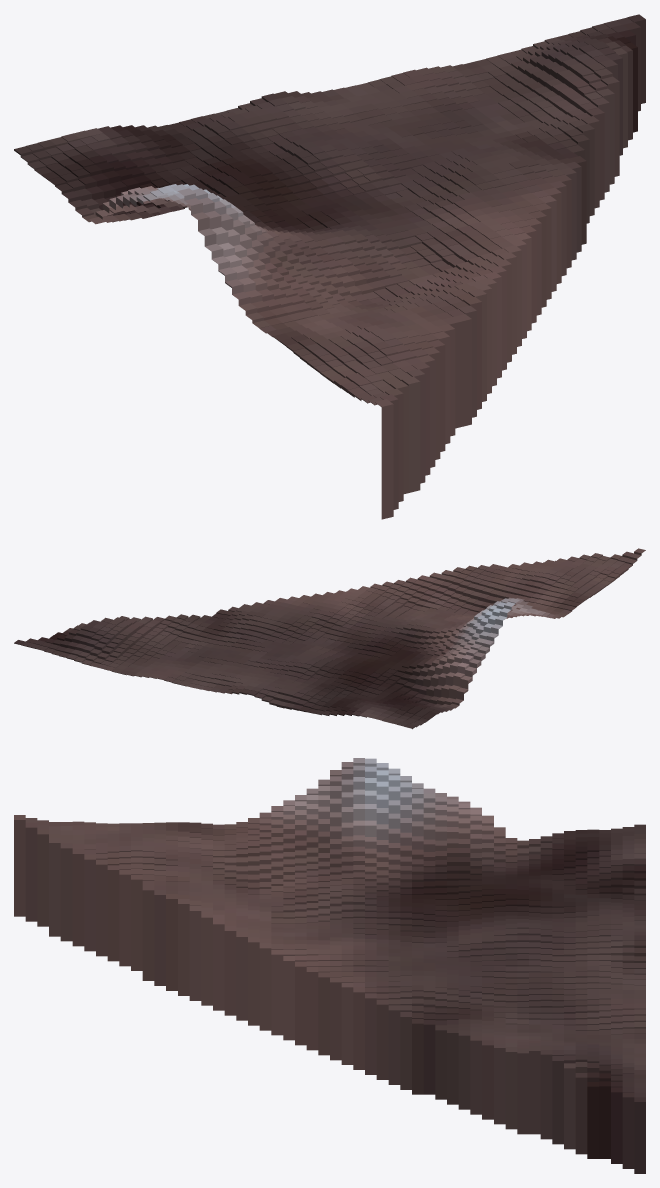
Rendered from chunk-41.glb.
3 views of the same model, one above another, from view 1: azimuth 30°, elevation 25°; view 2: azimuth 150°, elevation 25°; view 3: azimuth 270°, elevation 25° (orthographic). The views are drawn at different scales.
Visible parts, largest first — view 1: Mesh_0.057; view 2: Mesh_0.057; view 3: Mesh_0.057.
Boxes of the visible parts, x1=… form: Mesh_0.057: x1=14, y1=14, x2=645, y2=519; Mesh_0.057: x1=14, y1=548, x2=645, y2=729; Mesh_0.057: x1=14, y1=758, x2=645, y2=1173.
Bounding box in the file's own units: 13250 × 3624 × 13500.
